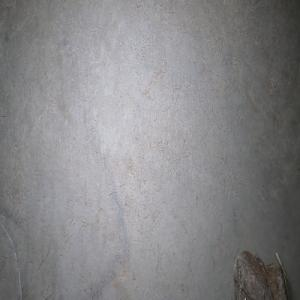Rock: (233, 249, 288, 300)
